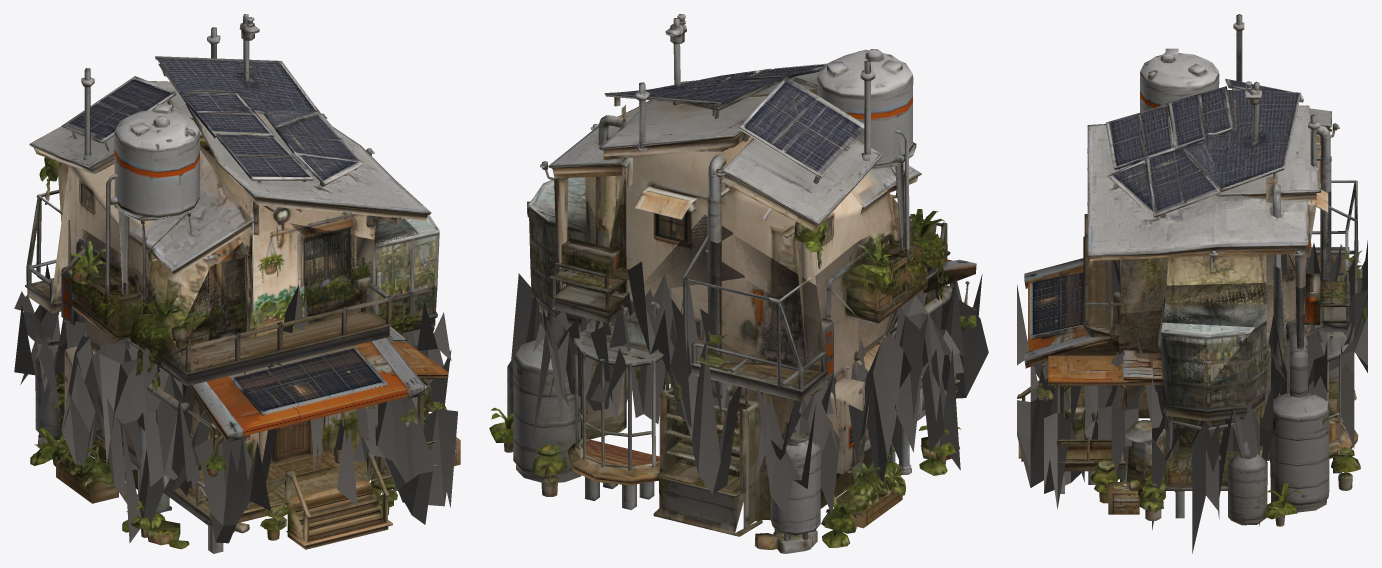
Rendered from nha_vuon.glb.
3 views of the same model, side by side, from view 1: azimuth 30°, elevation 25°; view 2: azimuth 150°, elevation 25°; view 3: azimuth 270°, elevation 25° (orthographic). The views are drawn at different scales.
Parts seen in each view (by area): view 1: do_1, nguyen, do_2; view 2: do_1, nguyen, do_2; view 3: do_1, nguyen, do_2.
Part boxes in pixels (box(x1,y1,x2,y2)): do_1: box(14, 227, 460, 553); nguyen: box(26, 14, 439, 347); do_2: box(14, 141, 451, 489); do_1: box(489, 232, 988, 553); nguyen: box(527, 14, 921, 385); do_2: box(511, 136, 964, 478); do_1: box(1017, 209, 1367, 553); nguyen: box(1087, 14, 1357, 386); do_2: box(1071, 184, 1367, 497).
Bounding box in the file's own units: 12.03 × 14.79 × 11.72.
Materials: 2 (1 with a texture image).
